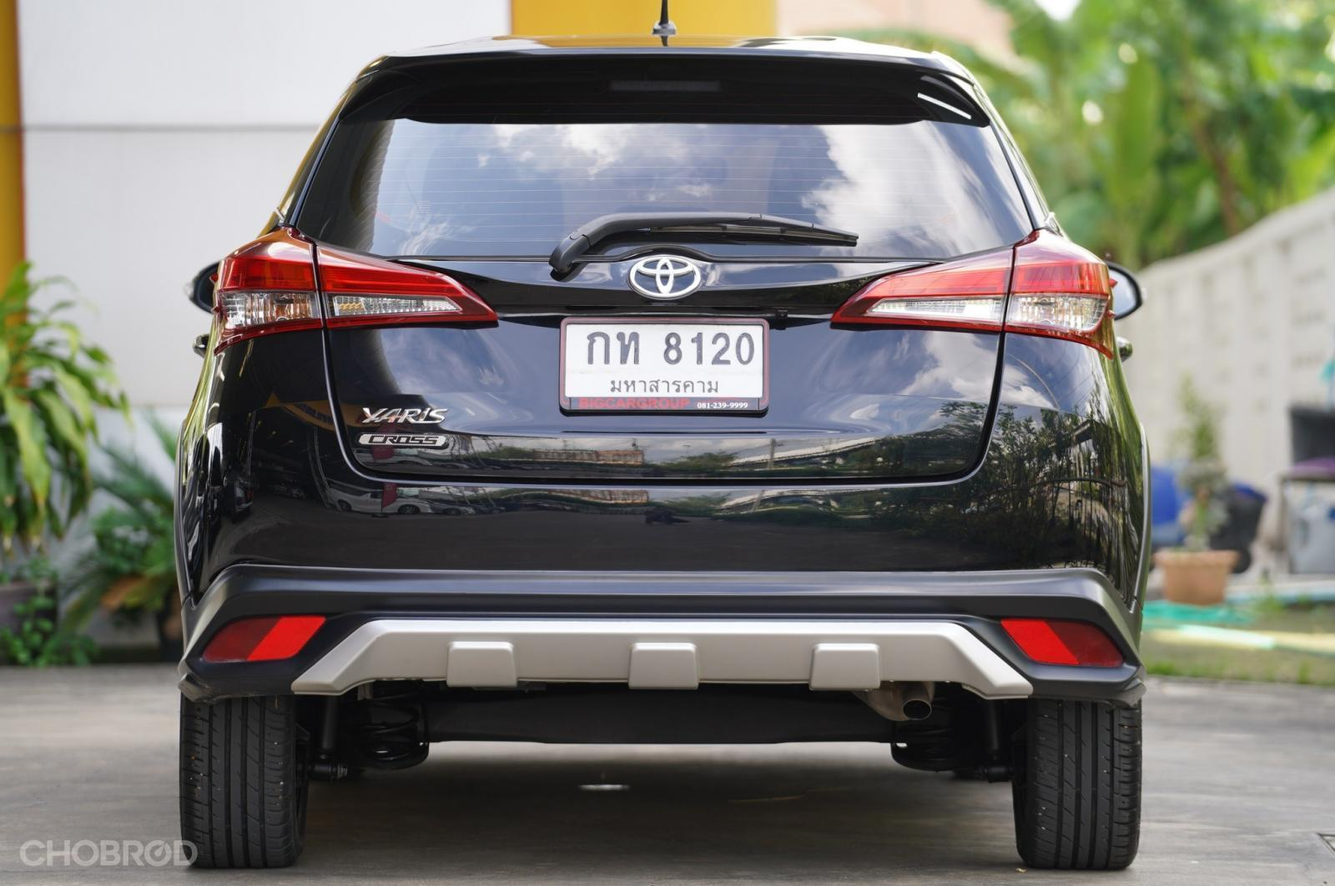license-plate: (558, 313, 772, 419)
